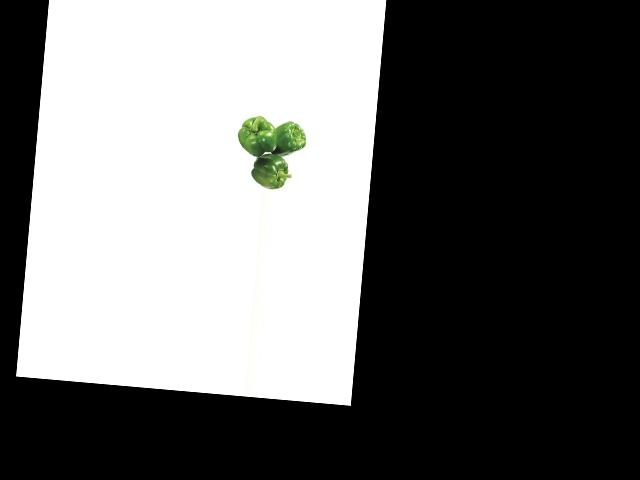bell_pepper: (232, 110, 280, 158)
